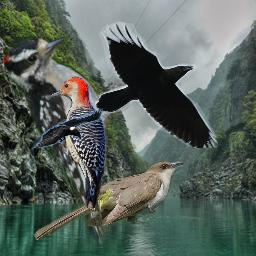Crow: (95, 21, 218, 148), (33, 108, 103, 148)
Cuckoo: (33, 160, 183, 240)
Woodpecker: (4, 36, 138, 245), (47, 76, 106, 208)
